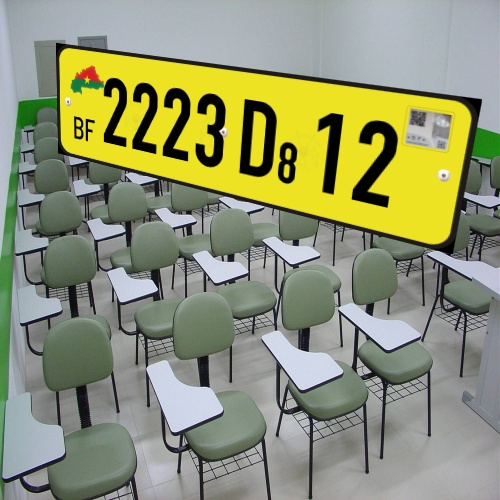plate: (50, 35, 488, 274)
